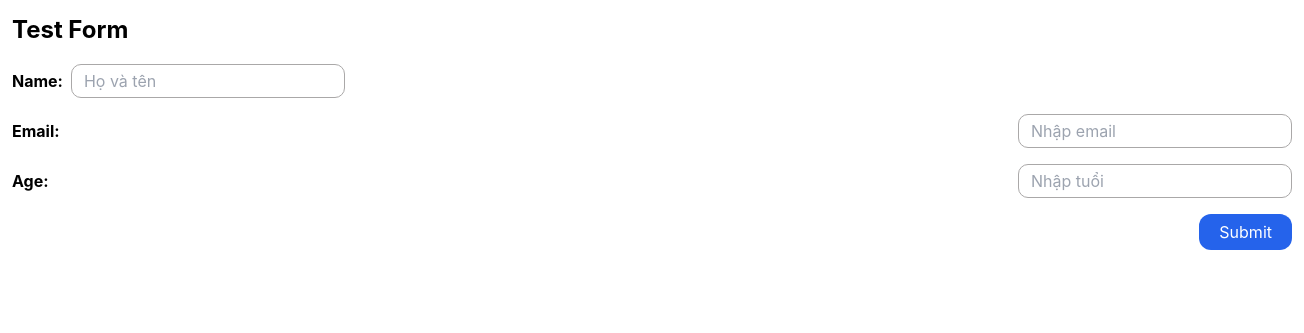
Test: TestForm component › displays age validation error messages on invalid age
The width and height of the screenshot is (1304, 333).
Type "17" into the number field labelled "Age:" at (1155, 181), box [1018, 164, 1292, 198]
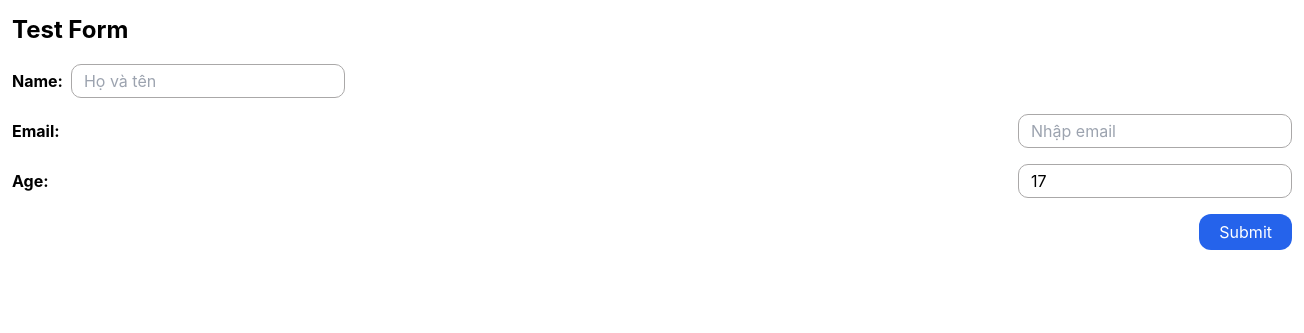
Click the button "Submit" at (1246, 232), box [1199, 214, 1292, 250]
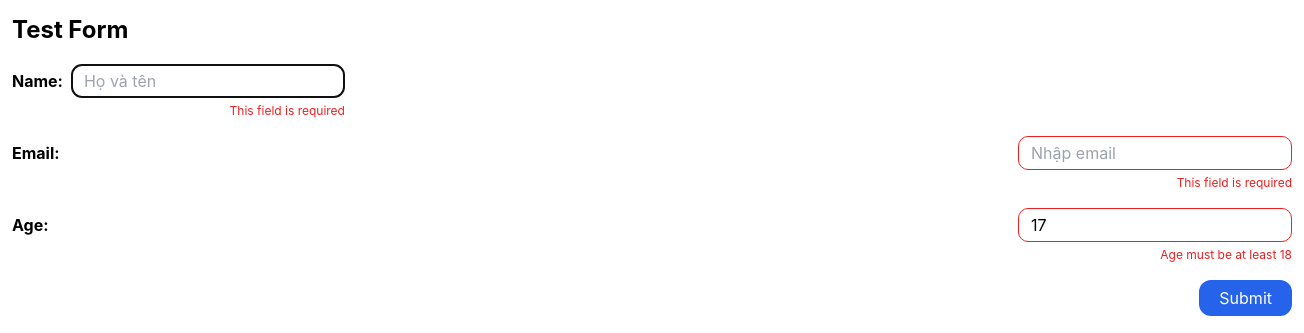
Result: the text "Age must be at least 18" is shown at [1160, 247, 1292, 262]
Replace the text in the number field labelled "Age:" with "66" at (1155, 225), box [1018, 208, 1292, 242]
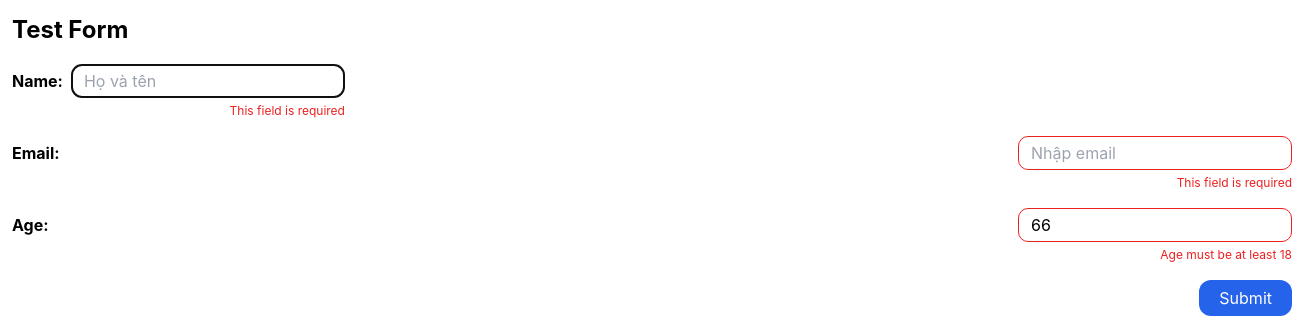
Click the button "Submit" at (1246, 298), box [1199, 280, 1292, 316]
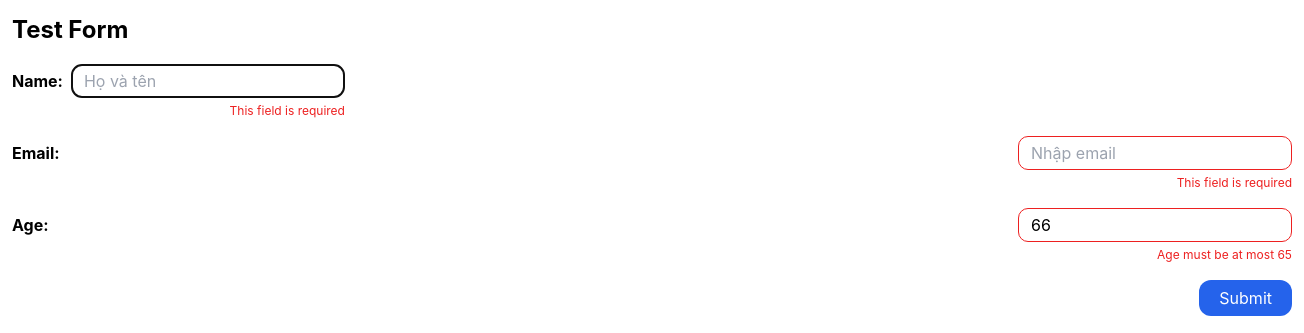
Result: the text "Age must be at most 65" is shown at [1157, 247, 1292, 262]
